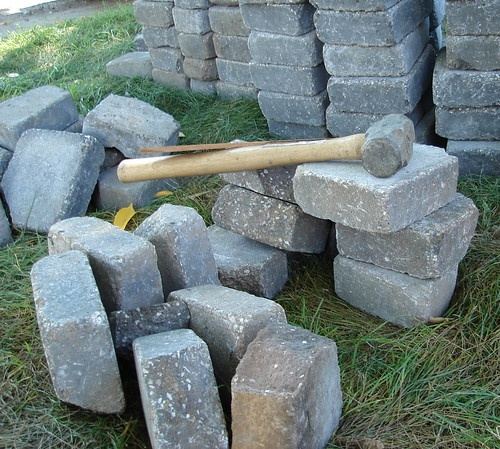hammer: (117, 116, 416, 182)
